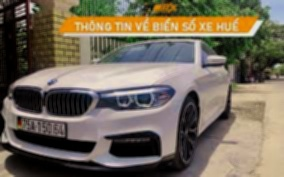Bien-so: (22, 116, 68, 141)
